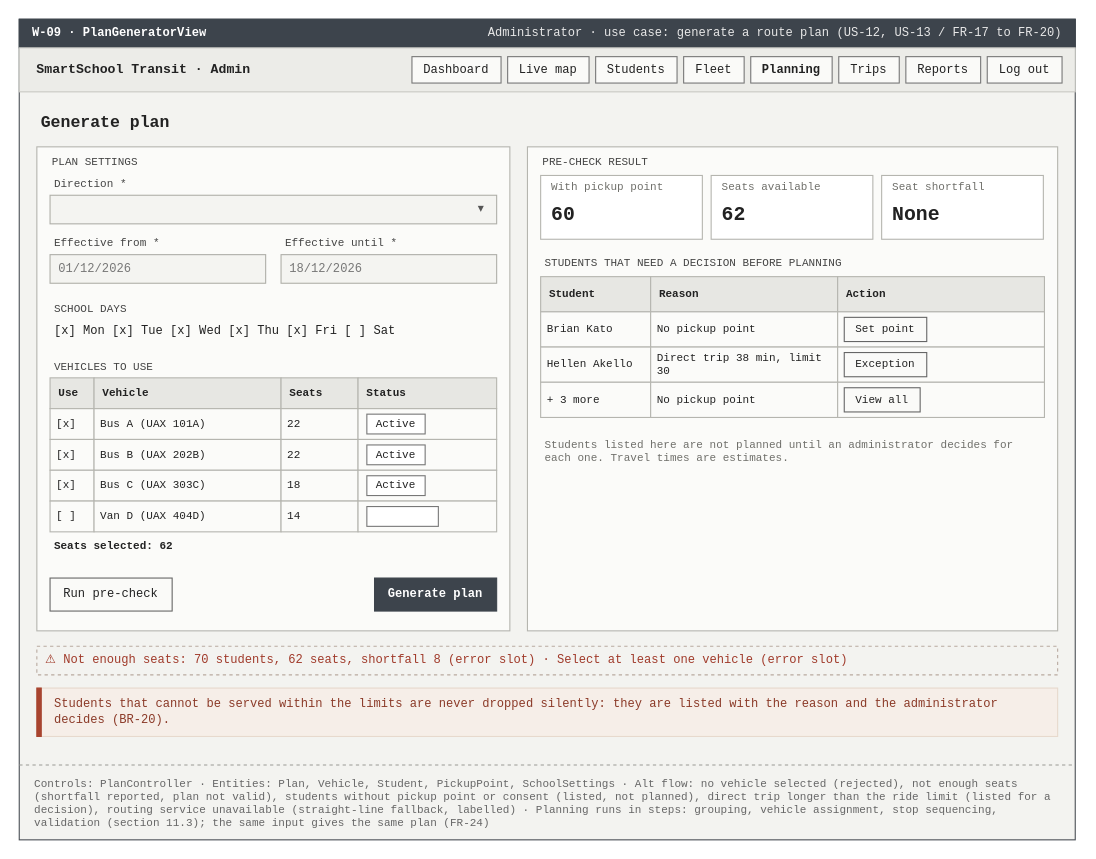
Image size: 1096x859. Some labels were removed from this diagram. Each missing label, with the box of its shape:
Inactive: (366, 505, 438, 526)
Morning pickup: (49, 194, 497, 224)
